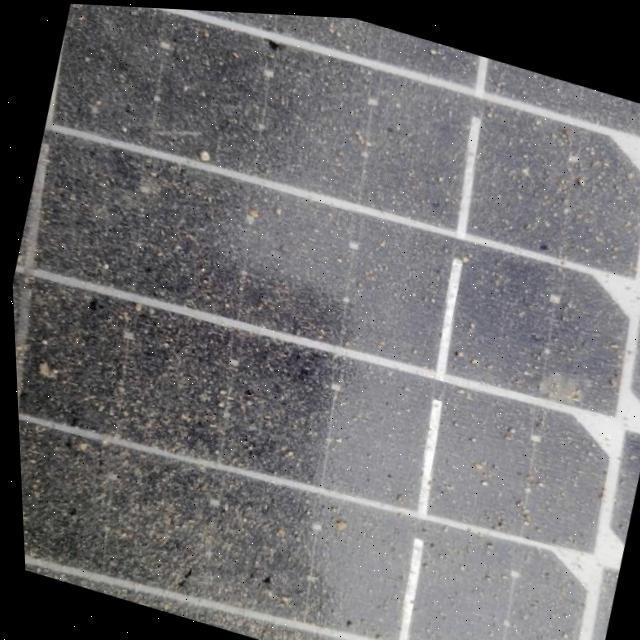Anomaly Solar Panel: (0, 0, 640, 640)
Surface Contaminant: (10, 3, 640, 640)
